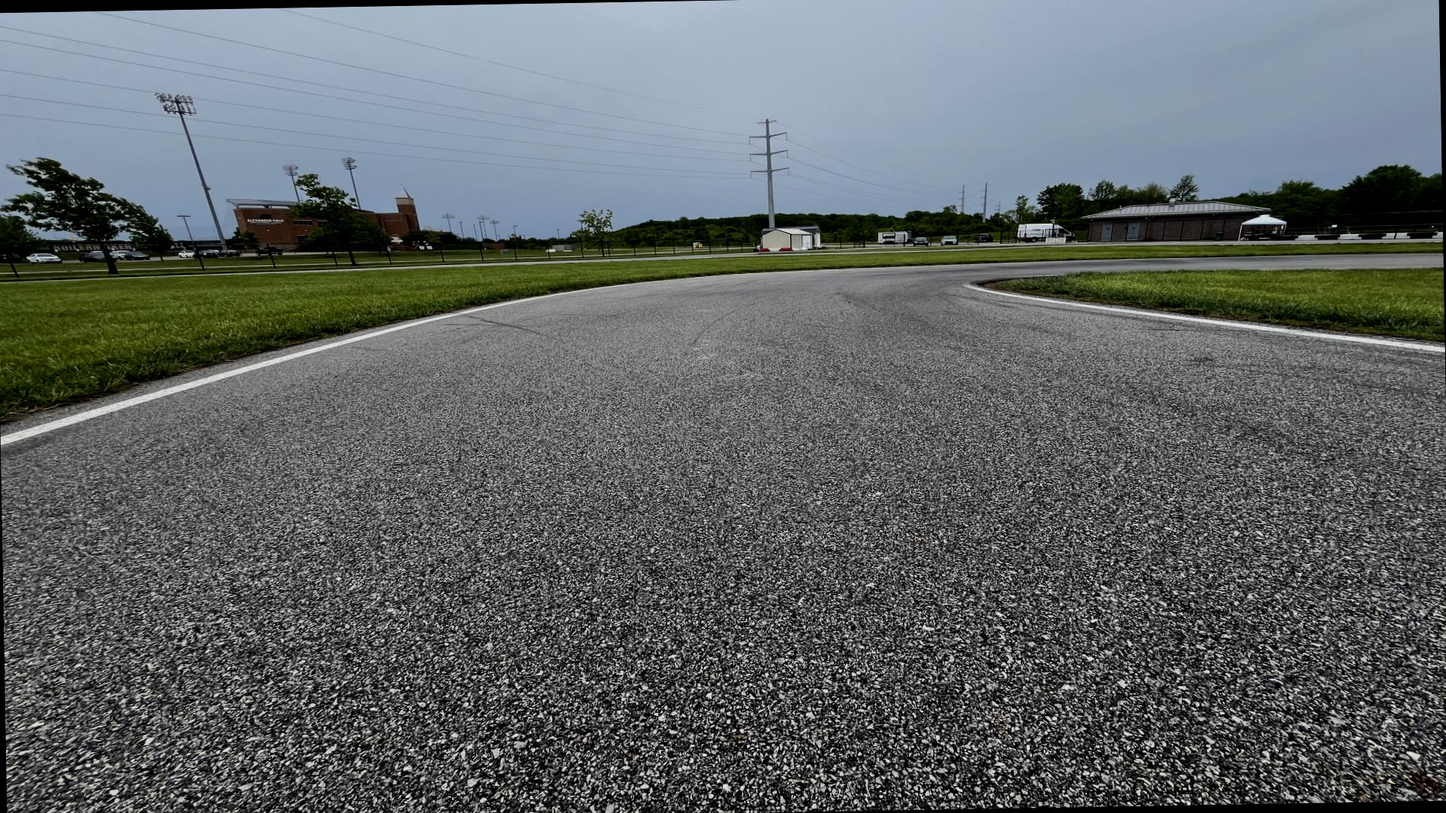white-line: (1, 254, 1365, 448), (961, 282, 1444, 353)
